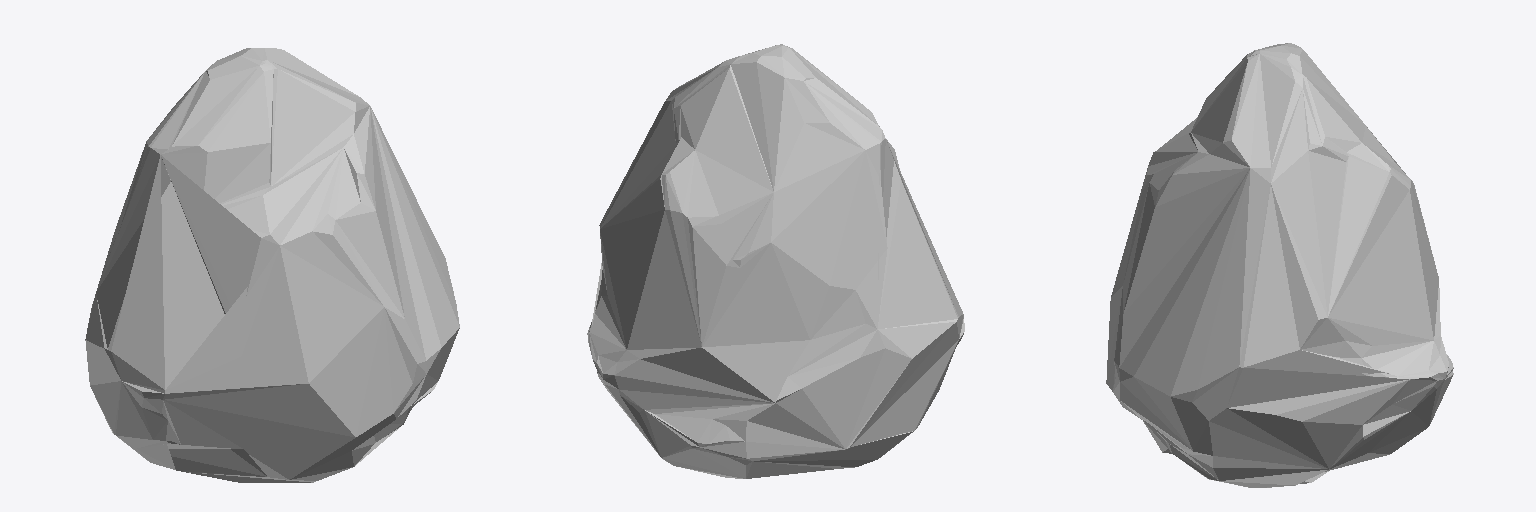
File: pebble.obj
3 views of the same model, side by side, from view 1: azimuth 30°, elevation 25°; view 2: azimuth 150°, elevation 25°; view 3: azimuth 270°, elevation 25° (orthographic).
Parts seen in each view (by area): view 1: Cube; view 2: Cube; view 3: Cube.
Boxes of the visible parts, x1=… form: Cube: x1=85, y1=48, x2=459, y2=482; Cube: x1=587, y1=44, x2=964, y2=478; Cube: x1=1106, y1=43, x2=1453, y2=487.
Bounding box in the file's own units: 2.95 × 3.37 × 2.61.